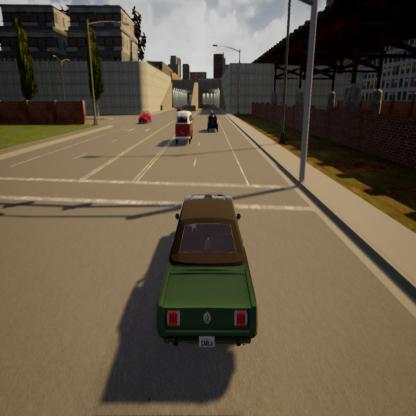Cars: (154, 183, 265, 365), (171, 103, 196, 144), (206, 107, 220, 137), (137, 105, 155, 127)
